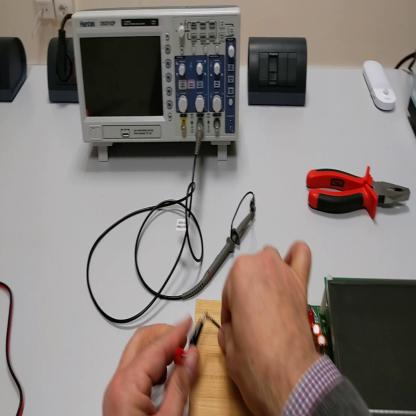hand: (218, 242, 321, 406), (103, 320, 201, 416)
low voltage board: (209, 275, 416, 415)
oscilloscope: (70, 4, 241, 162)
oscilloscope probe tip: (185, 214, 254, 299)
pliers: (305, 166, 412, 223)
socket: (45, 35, 79, 104), (2, 35, 29, 108)
welder station: (407, 64, 416, 132)
working area: (192, 297, 250, 416)
